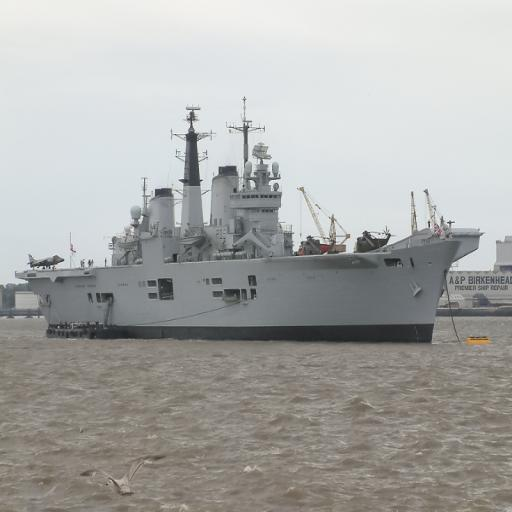Portanaves: (13, 90, 486, 351)
